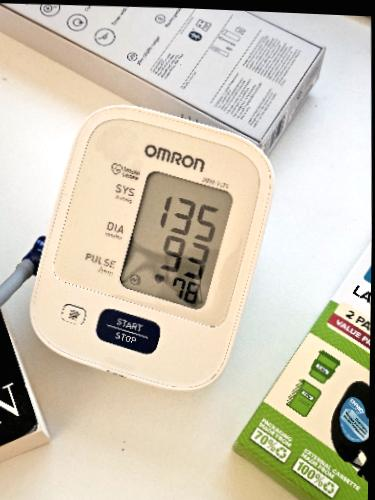bpm: (115, 169, 236, 313)
